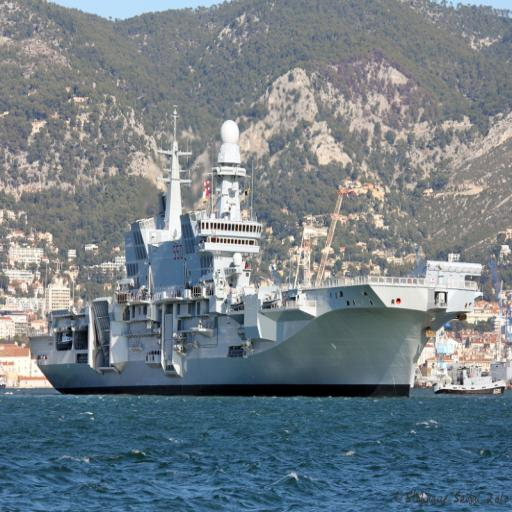Portanaves: (29, 113, 488, 401)
